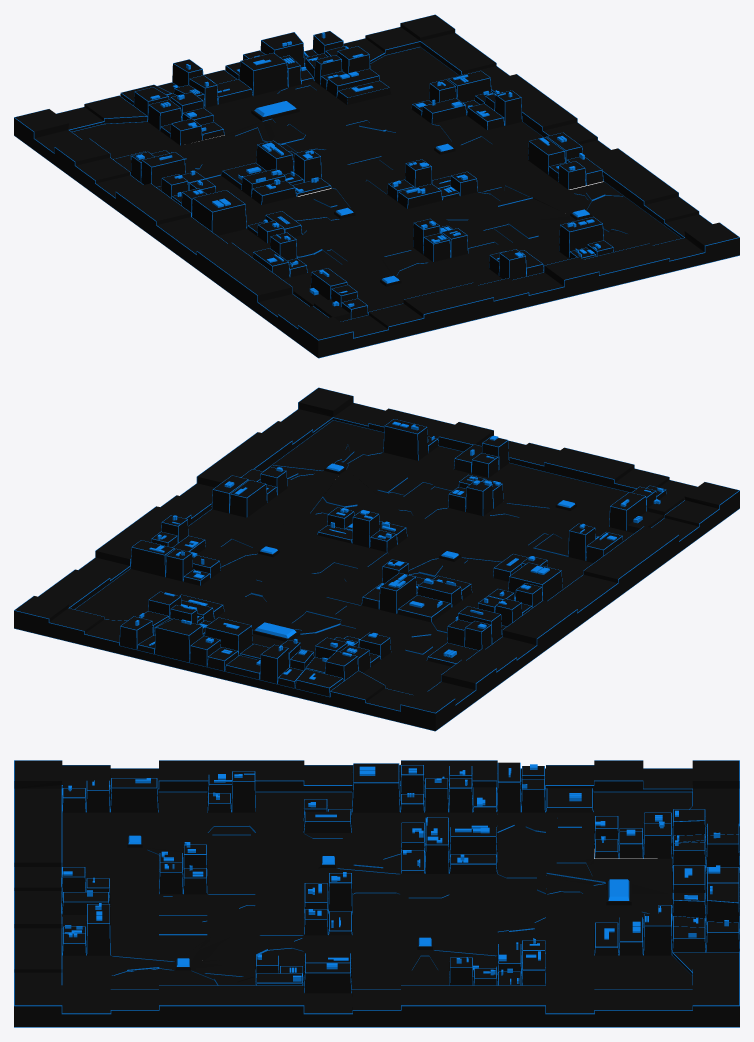
File: map.fbx
3 views of the same model, one above another, from view 1: azimuth 30°, elevation 25°; view 2: azimuth 150°, elevation 25°; view 3: azimuth 270°, elevation 25° (orthographic). The views are drawn at different scales.
Parts seen in each view (by area): view 1: sol, bord map bas, bord map gauche, groupe bat 11, bord map droite, groupe bat 9, bord map haut, groupe bat 1, groupe bat 8, chemin, groupe bat 2, groupe bat 10 (+17 smaller); view 2: sol, bord map gauche, groupe bat 11, bord map bas, bord map haut, bord map droite, groupe bat 9, groupe bat 8, groupe bat 1, chemin, groupe bat 2, groupe bat 10 (+17 smaller); view 3: sol, bord map droite, groupe bat 11, bord map bas, bord map gauche, groupe bat 9, bord map haut, groupe bat 8, chemin, groupe bat 6, groupe bat 2, groupe bat 1 (+20 smaller).
Boxes of the visible parts, box(x1,y1,x2,y2) form: sol: box(72, 23, 681, 311); bord map bas: box(298, 222, 739, 357); bord map gauche: box(33, 130, 328, 342); groupe bat 11: box(120, 31, 390, 145); bord map droite: box(420, 33, 711, 238); groupe bat 9: box(113, 150, 301, 243); bord map haut: box(14, 15, 454, 149); groupe bat 1: box(412, 71, 521, 130); groupe bat 8: box(221, 141, 330, 204); chemin: box(278, 115, 577, 279); groupe bat 2: box(528, 132, 602, 189); groupe bat 10: box(387, 159, 477, 208); sol: box(49, 420, 633, 701); bord map gauche: box(428, 500, 719, 716); groupe bat 11: box(119, 591, 390, 696); bord map bas: box(298, 388, 739, 522); bord map haut: box(14, 596, 455, 730); bord map droite: box(38, 409, 333, 609); groupe bat 9: box(427, 554, 562, 666); groupe bat 8: box(362, 559, 471, 622); groupe bat 1: box(131, 515, 220, 585); chemin: box(261, 471, 567, 626); groupe bat 2: box(212, 467, 287, 517); groupe bat 10: box(317, 507, 407, 551); sol: box(62, 792, 692, 993); bord map droite: box(62, 985, 692, 1026); groupe bat 11: box(594, 809, 739, 955); bord map bas: box(14, 760, 62, 1026); bord map gauche: box(61, 760, 692, 791); groupe bat 9: box(303, 762, 593, 832); bord map haut: box(672, 760, 739, 1026); groupe bat 8: box(401, 818, 497, 873); chemin: box(142, 840, 606, 968); groupe bat 6: box(62, 778, 158, 811); groupe bat 2: box(255, 953, 351, 993); groupe bat 1: box(449, 940, 545, 985).
Bounding box in the file's own units: 164 × 14.16 × 205.
